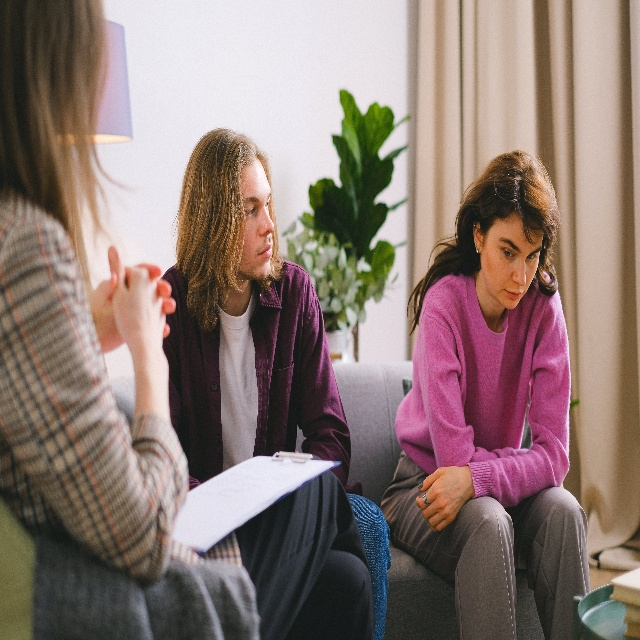Sin_guantes: (80, 267, 176, 346), (106, 244, 168, 360), (416, 472, 473, 535)
